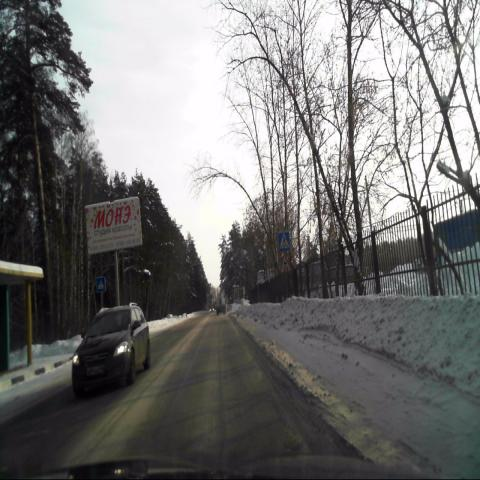1_15: (279, 253, 292, 274)
